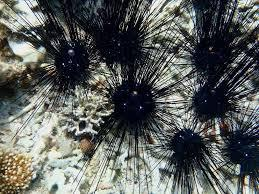urchin: (79, 24, 186, 194), (1, 3, 103, 137), (140, 96, 230, 194), (62, 0, 168, 72), (172, 65, 249, 130), (204, 107, 259, 194), (176, 14, 244, 73)
